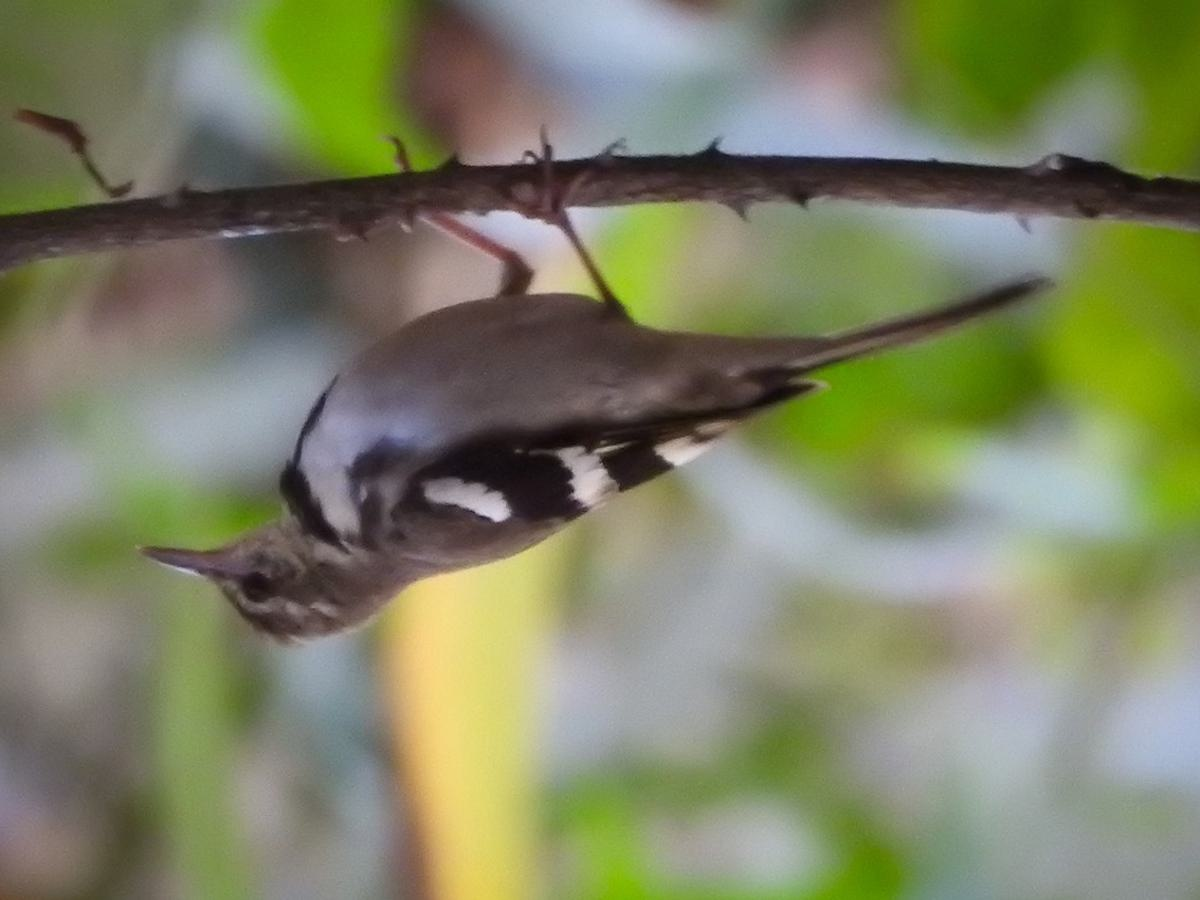wagtail: (126, 258, 1019, 651)
